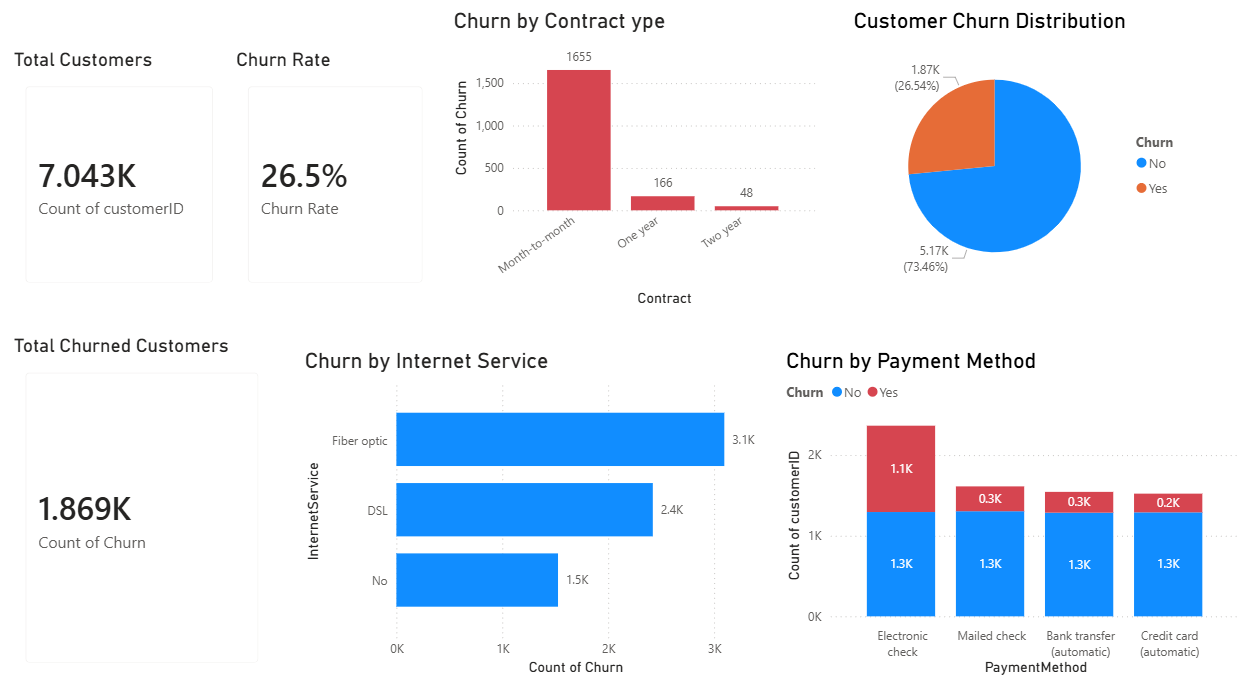

The page's visual inventory and layout, read from the dashboard file:
{"tool":"powerbi","page":{"name":"Page 1","canvas":[1280,720],"ordinal":0},"visuals":[{"type":"cardVisual","title":"Total Customers","fields":{"Data":["CountNonNull(WA_Fn-UseC_-Telco-Customer-Churn.customerID)"]},"box":[9.4,56.5,224.6,255.5],"z":0},{"type":"cardVisual","title":"Total Churned Customers","fields":{"Data":["CountNonNull(WA_Fn-UseC_-Telco-Customer-Churn.Churn)"]},"box":[9.4,347,270.3,349.7],"z":1000},{"type":"cardVisual","title":"Churn Rate","fields":{"Data":["WA_Fn-UseC_-Telco-Customer-Churn.Churn Rate"]},"box":[234,56.5,211.1,255.5],"z":2000},{"type":"clusteredColumnChart","title":"Churn by Contract ype","fields":{"Category":["WA_Fn-UseC_-Telco-Customer-Churn.Contract"],"Y":["CountNonNull(WA_Fn-UseC_-Telco-Customer-Churn.Churn)"]},"box":[454.6,16.1,376.6,306.6],"z":3000},{"type":"pieChart","title":"Customer Churn Distribution","fields":{"Category":["WA_Fn-UseC_-Telco-Customer-Churn.Churn"],"Y":["CountNonNull(WA_Fn-UseC_-Telco-Customer-Churn.customerID)"]},"box":[859.3,16.1,353.7,295.9],"z":4000},{"type":"barChart","title":"Churn by Internet Service","fields":{"Y":["CountNonNull(WA_Fn-UseC_-Telco-Customer-Churn.Churn)"],"Category":["WA_Fn-UseC_-Telco-Customer-Churn.InternetService"]},"box":[303.9,360.4,473.4,336.2],"z":5000},{"type":"columnChart","title":"Churn by Payment Method","fields":{"Category":["WA_Fn-UseC_-Telco-Customer-Churn.PaymentMethod"],"Y":["CountNonNull(WA_Fn-UseC_-Telco-Customer-Churn.customerID)"],"Series":["WA_Fn-UseC_-Telco-Customer-Churn.Churn"]},"box":[790.8,360.4,470.7,336.2],"z":6000}]}

Visuals, with their boxes in screenshot pixels (x1, y1, x2, y2), scaled from the page's 1280x720 canvas onto the 1260x700 screenshot:
"Total Customers" cardVisual: 9, 55, 230, 303
"Total Churned Customers" cardVisual: 9, 337, 275, 677
"Churn Rate" cardVisual: 230, 55, 438, 303
"Churn by Contract ype" clusteredColumnChart: 447, 16, 818, 314
"Customer Churn Distribution" pieChart: 846, 16, 1194, 303
"Churn by Internet Service" barChart: 299, 350, 765, 677
"Churn by Payment Method" columnChart: 778, 350, 1242, 677
